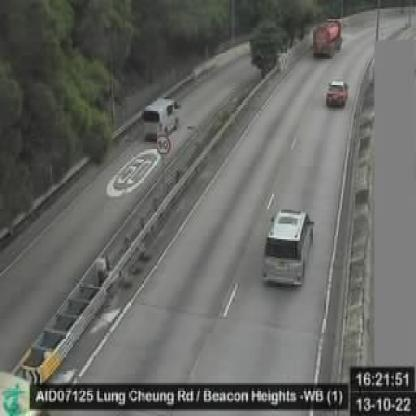Car: (262, 207, 314, 288), (142, 94, 181, 143), (326, 77, 348, 106)
Truck: (309, 21, 343, 60)
